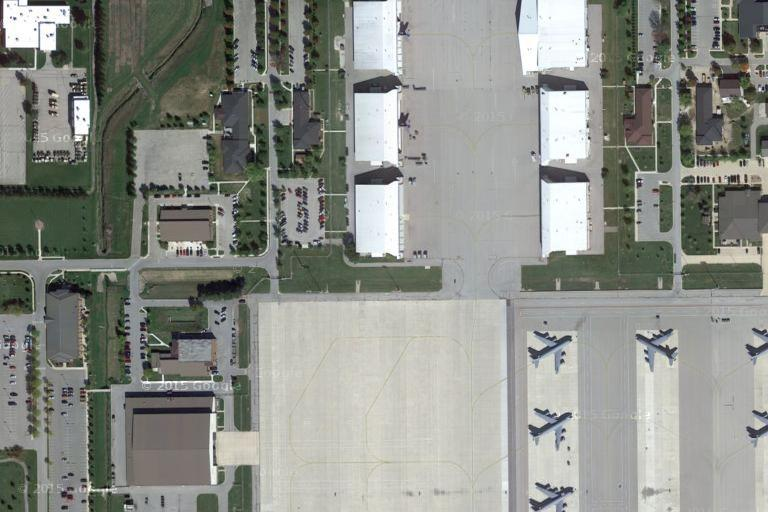KC-135: (526, 328, 576, 378), (631, 326, 681, 374), (526, 405, 576, 451), (528, 480, 580, 512)
